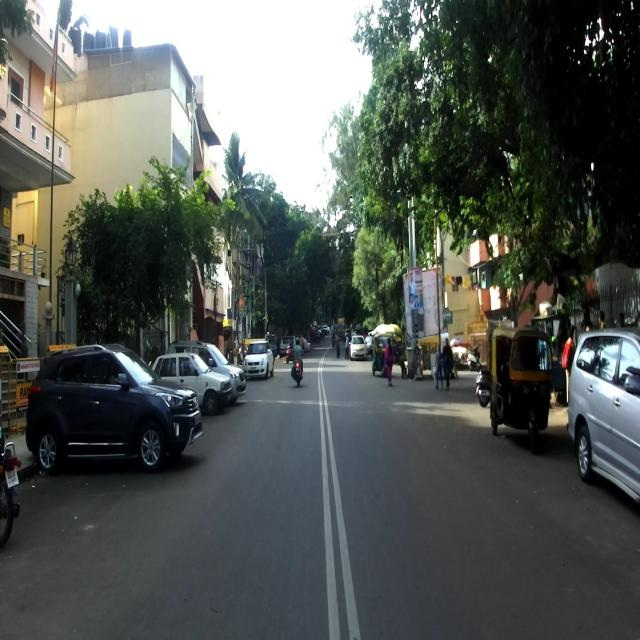autorickshaw: (488, 325, 556, 454)
car: (25, 342, 204, 476), (567, 327, 639, 504), (166, 339, 246, 406), (150, 351, 232, 415)
